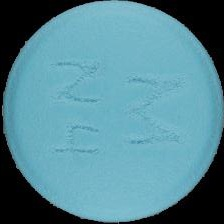0378-7004: (0, 0, 224, 224)
